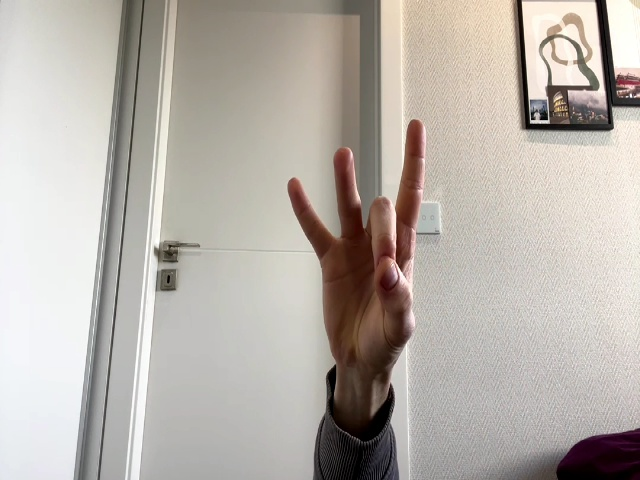G: (288, 120, 427, 370)
